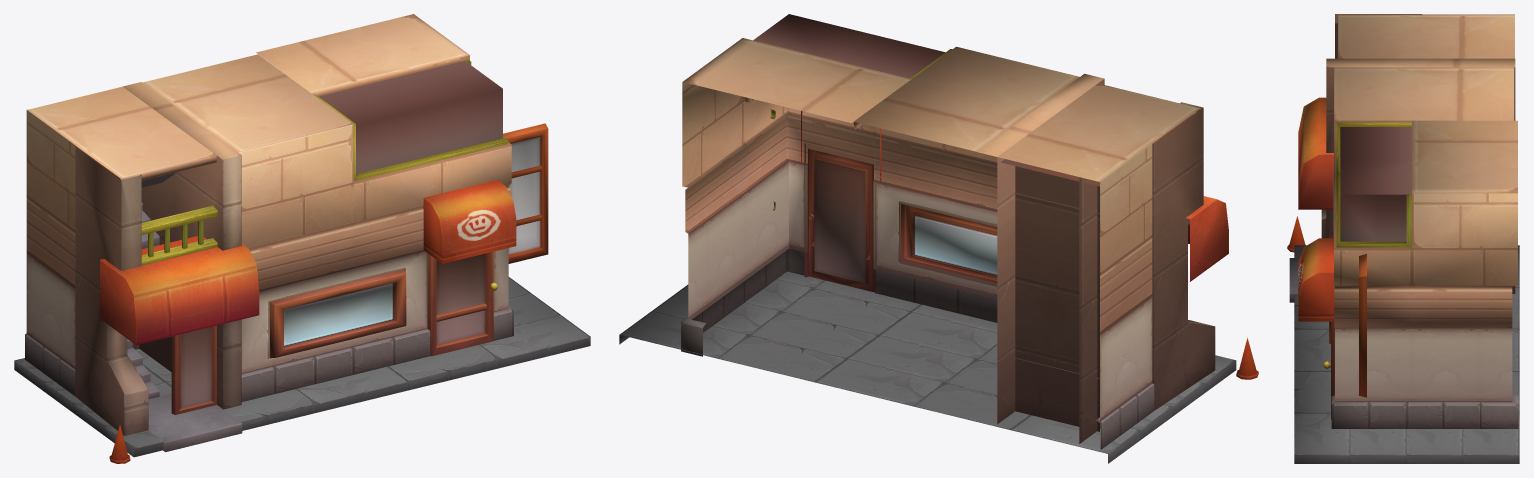
File: dj_fangzi2.FBX
3 renders of one model, left to right at view 1: azimuth 30°, elevation 25°; view 2: azimuth 150°, elevation 25°; view 3: azimuth 270°, elevation 25°, orthographic. The views are drawn at different scales.
Visible parts, largest first — view 1: dj_jianzhu_02; view 2: dj_jianzhu_02; view 3: dj_jianzhu_02.
Part boxes in pixels (x1=…): dj_jianzhu_02: x1=14, y1=14, x2=590, y2=463; dj_jianzhu_02: x1=619, y1=14, x2=1258, y2=463; dj_jianzhu_02: x1=1287, y1=14, x2=1519, y2=463.
Bounding box in the file's own units: 1360 × 706 × 608.
